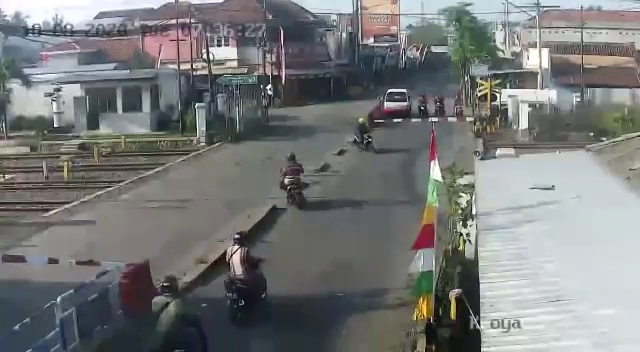car: (384, 89, 413, 117)
motorbike: (148, 277, 210, 352), (221, 234, 272, 320), (281, 150, 309, 211), (353, 117, 376, 155), (433, 94, 446, 117), (419, 94, 430, 118), (454, 94, 465, 118)
